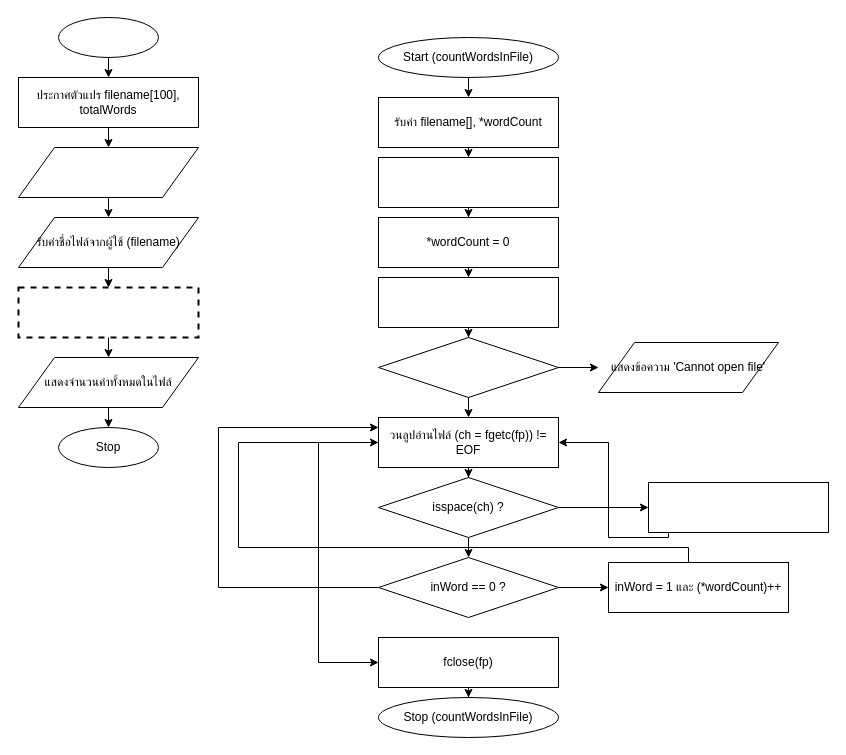
The diagram is 846 pixels wide and 755 high, and some of its shapes have lost their labels. The centre of each missing label's shape, as x and y in pixels:
fp == NULL ?: point 468,367
inWord = 0: point 738,507
Start: point 108,37
ประกาศ FILE *fp, char ch, int inWord = 0: point 468,182
เปิดไฟล์ fp = fopen(filename, 'r'): point 468,302
เรียกใช้ฟังก์ชัน countWordsInFile(filename, &totalWords): point 108,312
แสดงข้อความ 'Enter file name:': point 108,172
